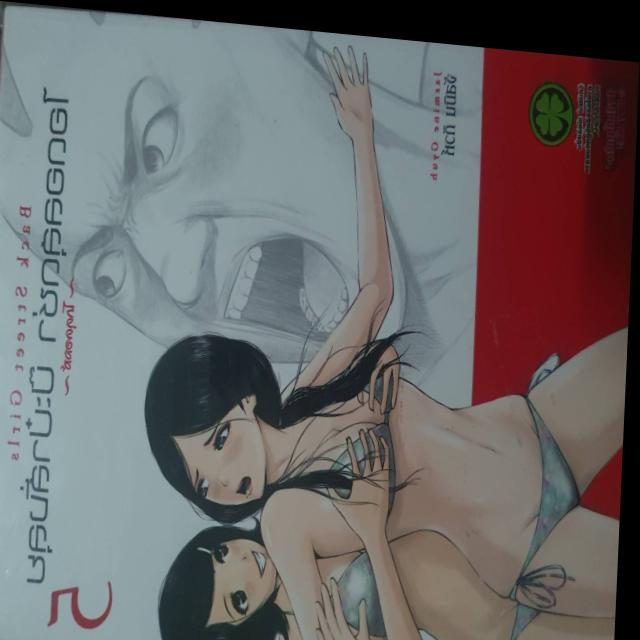LuckPim: (0, 4, 640, 640)
